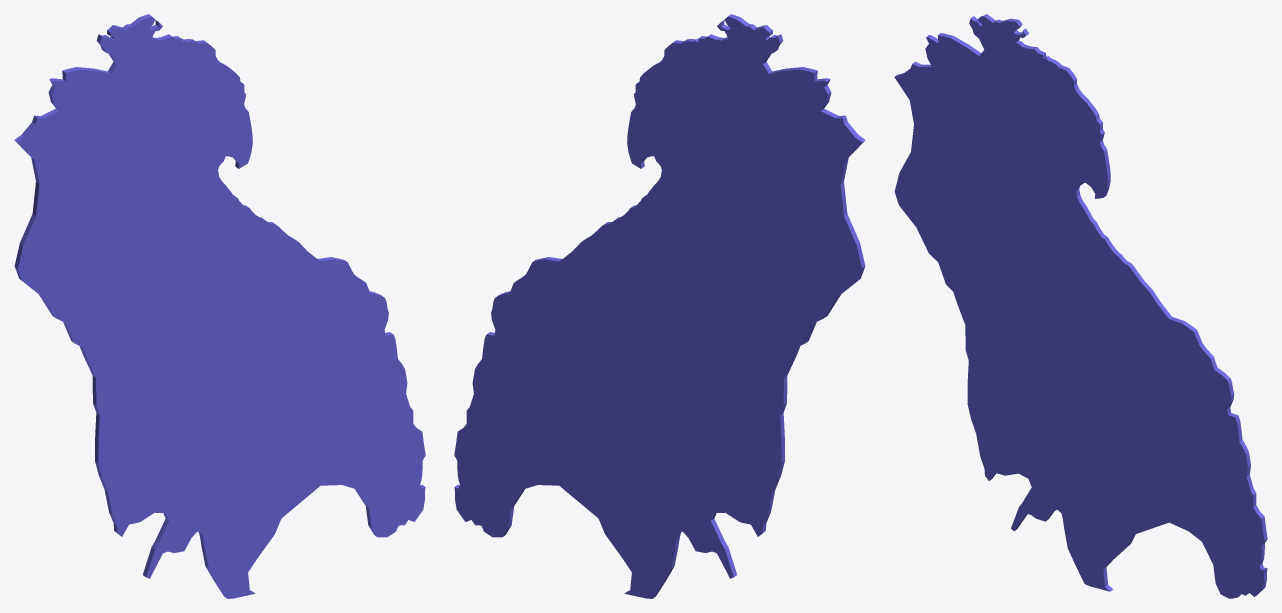
Rendered from lagoa5.glb.
The picture shows the model from 3 angles, left to right: view 1: azimuth 30°, elevation 25°; view 2: azimuth 150°, elevation 25°; view 3: azimuth 330°, elevation 25°; orthographic projection. The views are drawn at different scales.
Parts seen in each view (by area): view 1: Plane; view 2: Plane; view 3: Plane.
Part boxes in pixels (left/top/right/bottom): Plane: left=14, top=14, right=425, bottom=598; Plane: left=454, top=14, right=865, bottom=598; Plane: left=894, top=14, right=1267, bottom=598.
Bounding box in the file's own units: 18.49 × 26.09 × 0.2704.
